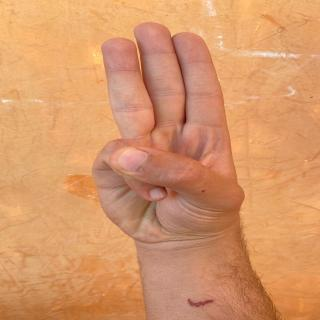THA: (77, 9, 300, 244)
